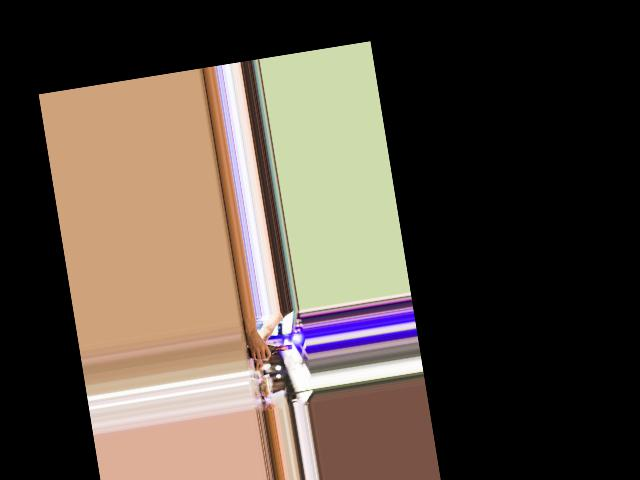beer: (248, 341, 292, 358)
